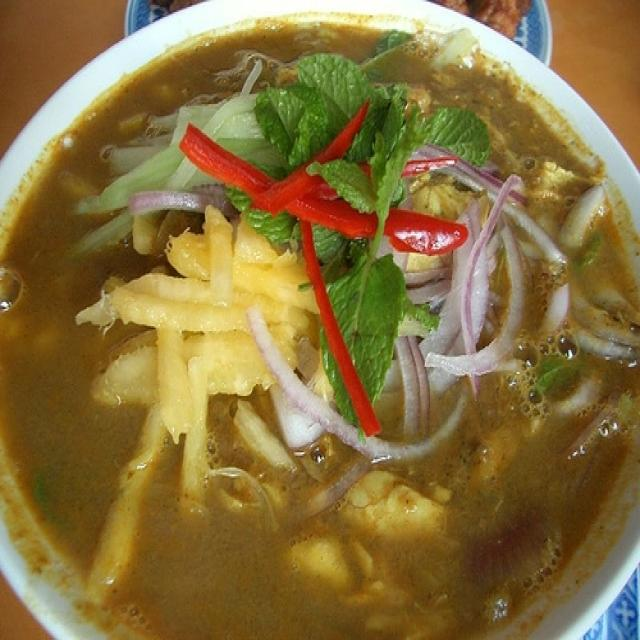面条主食: (32, 36, 548, 607)
